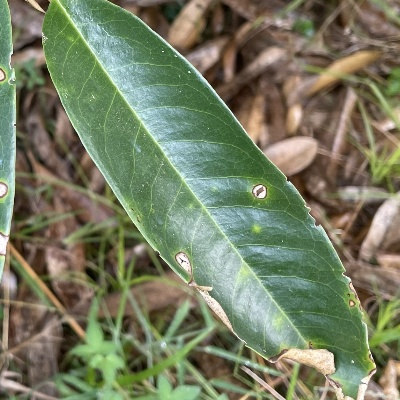Leaf_Phomopsis: (39, 0, 379, 399)
